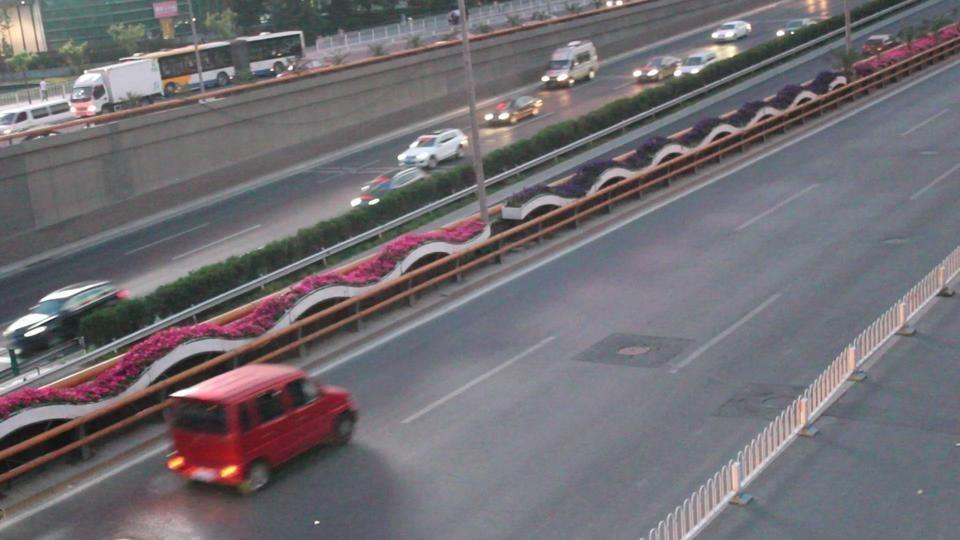car: (161, 360, 360, 496), (499, 152, 646, 224), (2, 279, 127, 362), (0, 98, 73, 141), (354, 166, 432, 206), (396, 129, 469, 169), (542, 39, 600, 88), (479, 95, 545, 127), (632, 55, 682, 83), (676, 51, 720, 78), (776, 17, 819, 38), (710, 21, 751, 42)
